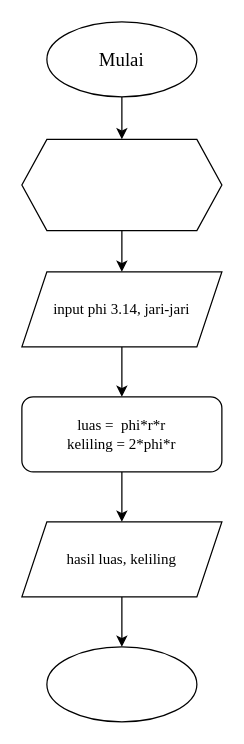
Image size: 244x744. Some labels were removed from this diagram. Here are the shapes that lost their labels. From the top down, the box of each, then its label:
(21, 138, 222, 231): int jari-jari, double phi, double keliling, luas, keliling dan luas
(46, 646, 197, 722): Selesai
